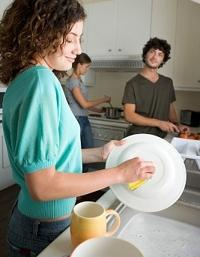person: (1, 1, 155, 257)
